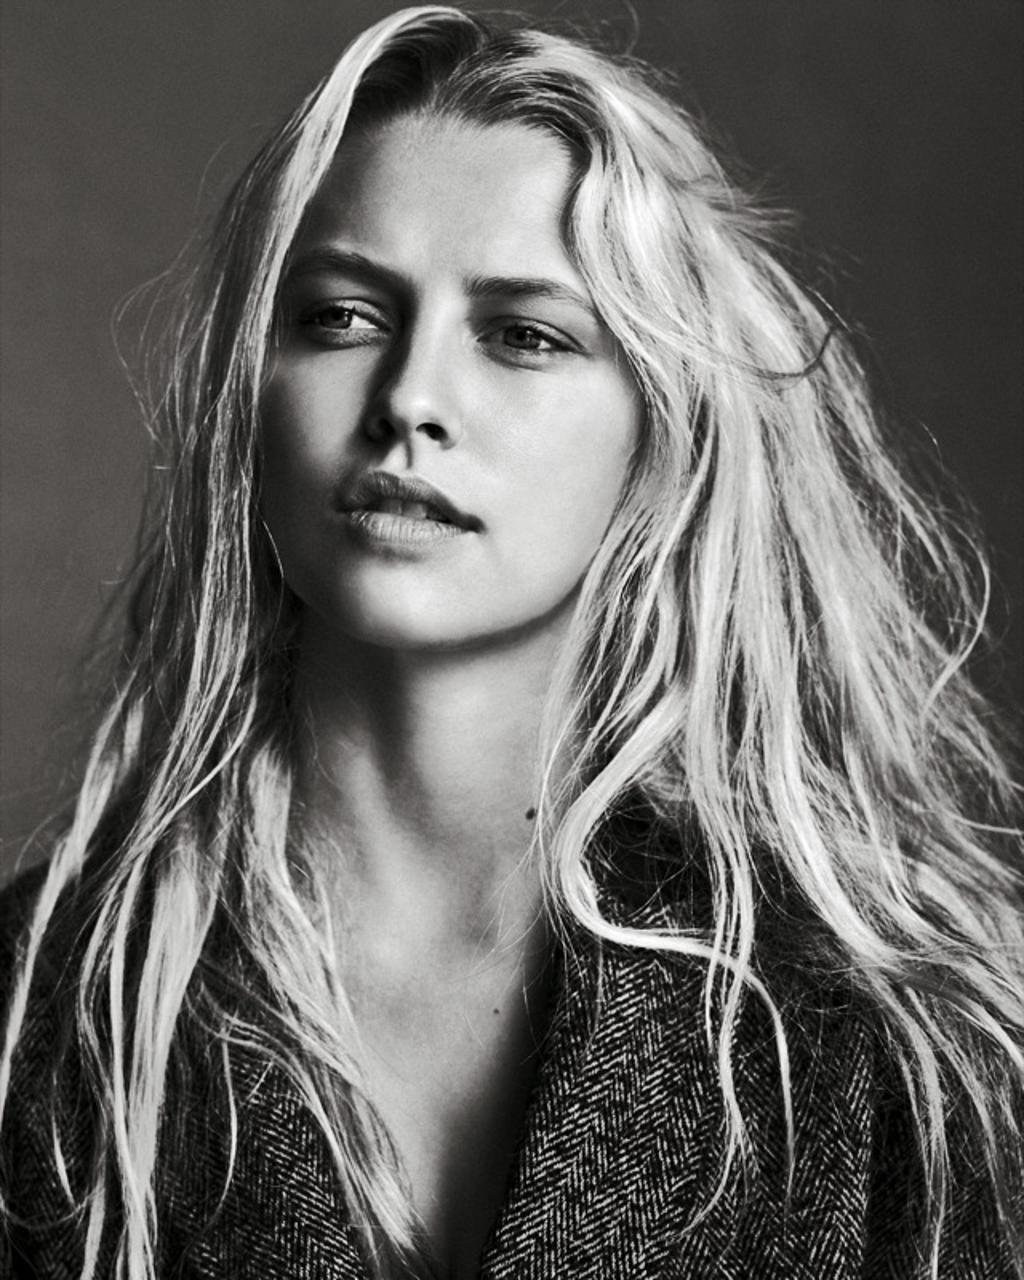face: (282, 110, 632, 644)
